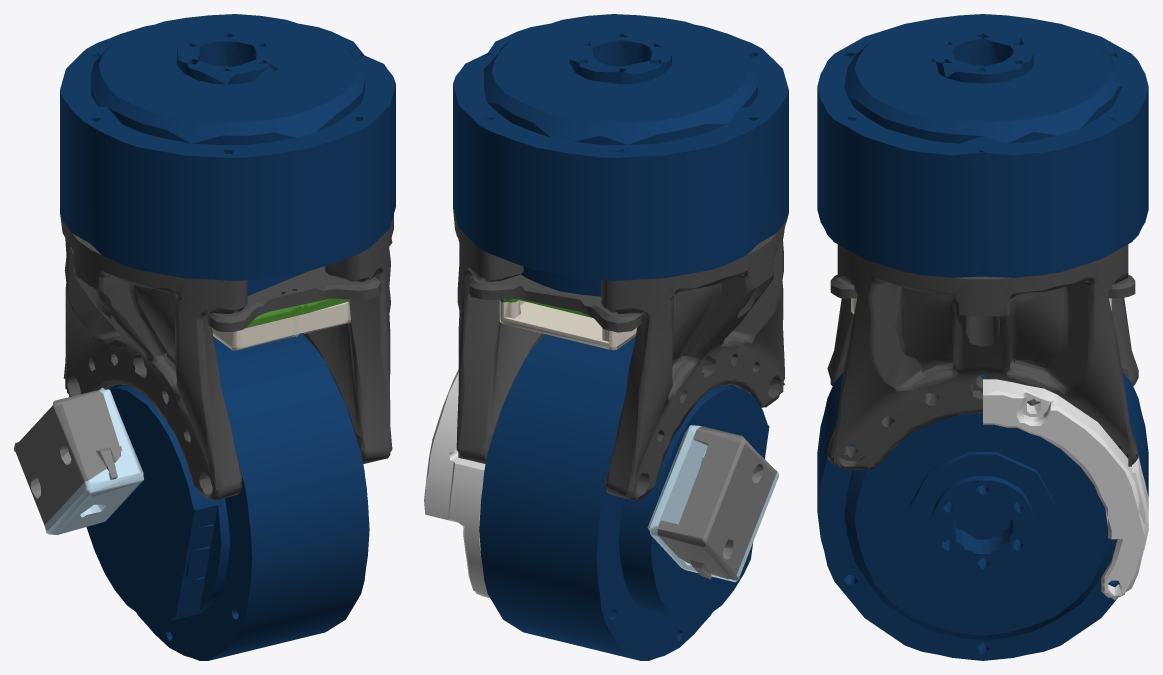
The model's file is right_shoulder_pitch.obj.
The picture shows the model from 3 angles, left to right: view 1: azimuth 30°, elevation 25°; view 2: azimuth 150°, elevation 25°; view 3: azimuth 270°, elevation 25°; orthographic projection.
Parts seen in each view (by area): view 1: AK10_9, N16_23_P01_01_Link_Shoulder_Start, Part_2, Part_1, N16_23_P01_03_IMU_Mount_Shoulder, GIMU_P04_02_IMU_Housing_Top_Thru_Hole, GIMU_P04_01_IMU_Housing_Base_Thru_Hole; view 2: AK10_9, N16_23_P01_01_Link_Shoulder_Start, Part_2, N16_23_P01_02_Endstop_Shoulder_End_A, Part_1, N16_23_P01_03_IMU_Mount_Shoulder, GIMU_P04_02_IMU_Housing_Top_Thru_Hole; view 3: AK10_9, N16_23_P01_01_Link_Shoulder_Start, N16_23_P01_02_Endstop_Shoulder_End_A, N16_23_P01_03_IMU_Mount_Shoulder.
Boxes of the visible parts, bbox=[...] form: AK10_9: bbox=[60, 14, 395, 660]; N16_23_P01_01_Link_Shoulder_Start: bbox=[60, 214, 393, 500]; Part_2: bbox=[14, 390, 121, 525]; Part_1: bbox=[44, 387, 143, 535]; N16_23_P01_03_IMU_Mount_Shoulder: bbox=[207, 266, 381, 331]; GIMU_P04_02_IMU_Housing_Top_Thru_Hole: bbox=[211, 301, 350, 350]; GIMU_P04_01_IMU_Housing_Base_Thru_Hole: bbox=[245, 298, 350, 328]; AK10_9: bbox=[453, 14, 788, 660]; N16_23_P01_01_Link_Shoulder_Start: bbox=[453, 208, 788, 501]; Part_2: bbox=[657, 426, 776, 579]; N16_23_P01_02_Endstop_Shoulder_End_A: bbox=[424, 369, 490, 598]; Part_1: bbox=[647, 425, 778, 582]; N16_23_P01_03_IMU_Mount_Shoulder: bbox=[469, 274, 641, 332]; GIMU_P04_02_IMU_Housing_Top_Thru_Hole: bbox=[499, 300, 636, 350]; AK10_9: bbox=[817, 14, 1148, 660]; N16_23_P01_01_Link_Shoulder_Start: bbox=[827, 244, 1138, 469]; N16_23_P01_02_Endstop_Shoulder_End_A: bbox=[983, 379, 1148, 600]; N16_23_P01_03_IMU_Mount_Shoulder: bbox=[830, 274, 1135, 298].
Bounding box in the file's own units: 0.1 × 0.189 × 0.098.
